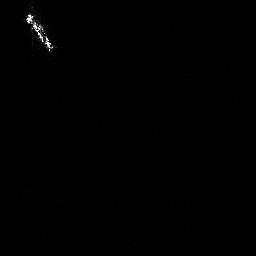ship: (22, 9, 59, 56)
